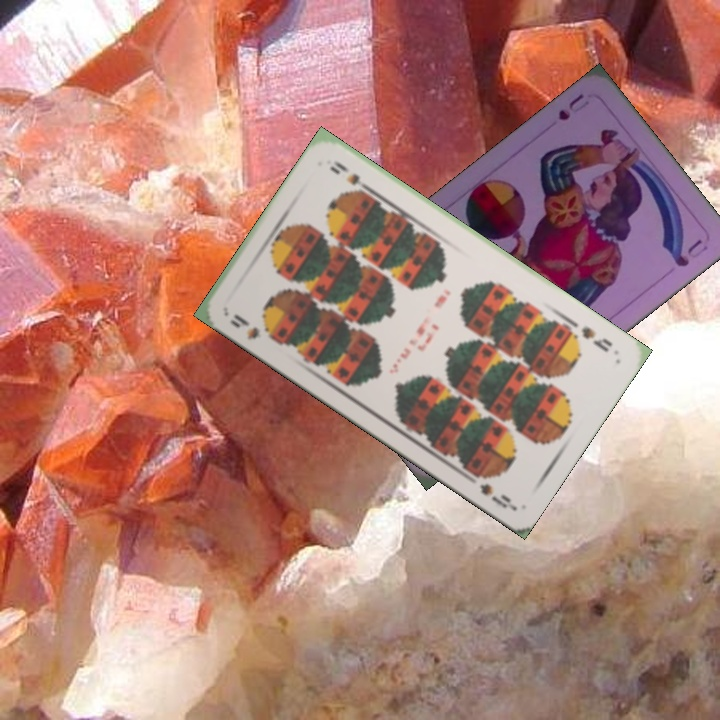S9: (225, 310, 277, 344), (577, 322, 615, 355)
SU: (554, 90, 592, 124)
